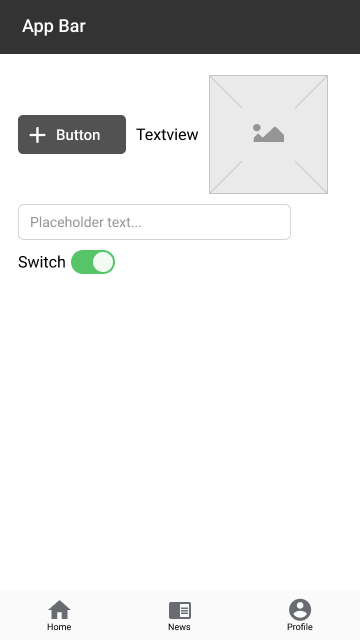button: (14, 110, 128, 161)
editText: (16, 201, 295, 242)
imageView: (207, 71, 332, 198)
navigationButton: (1, 590, 357, 639)
switch: (14, 249, 116, 275)
textView: (137, 126, 199, 144)
toolbar: (2, 1, 360, 56)
